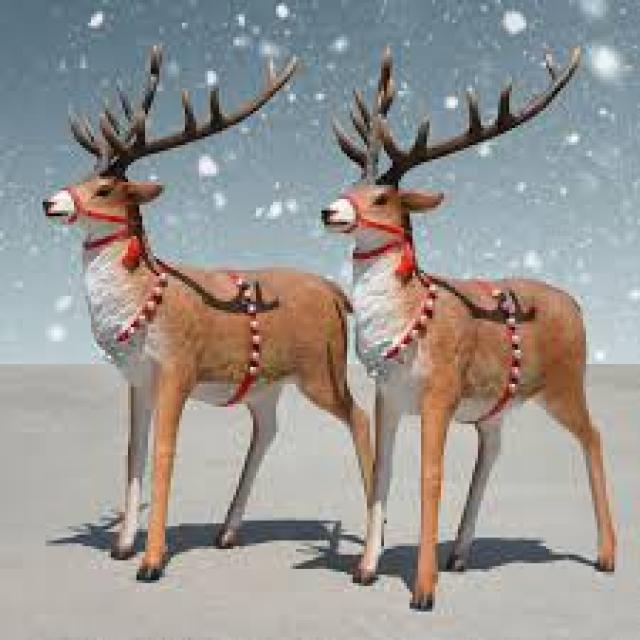Reindeer: (40, 38, 374, 600), (325, 44, 616, 612)
